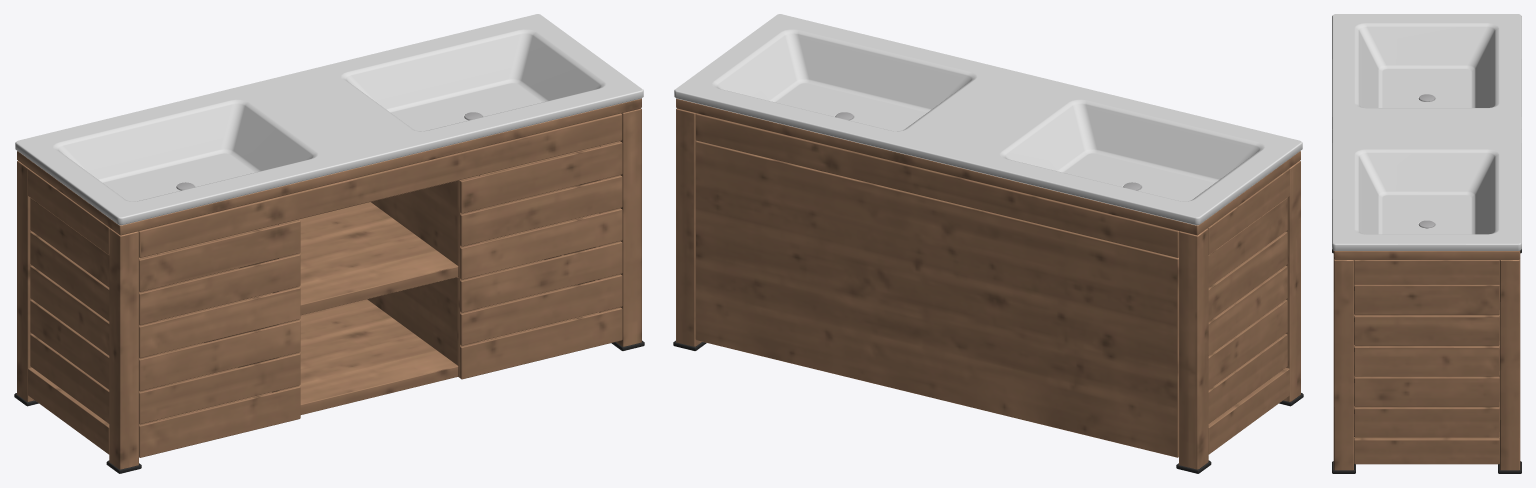
Rendered from sink2.glb.
3 renders of one model, left to right at view 1: azimuth 30°, elevation 25°; view 2: azimuth 150°, elevation 25°; view 3: azimuth 270°, elevation 25°, orthographic. The views are drawn at different scales.
Parts seen in each view (by area): view 1: SM_Storage16; view 2: SM_Storage16; view 3: SM_Storage16.
Part boxes in pixels (box(x1,y1,x2,y2)): SM_Storage16: box(14, 14, 644, 473); SM_Storage16: box(673, 14, 1303, 473); SM_Storage16: box(1332, 14, 1521, 473).
Size of the model in its own units: 1.61 by 0.75 by 0.5606.
5 materials, 1 textured.
